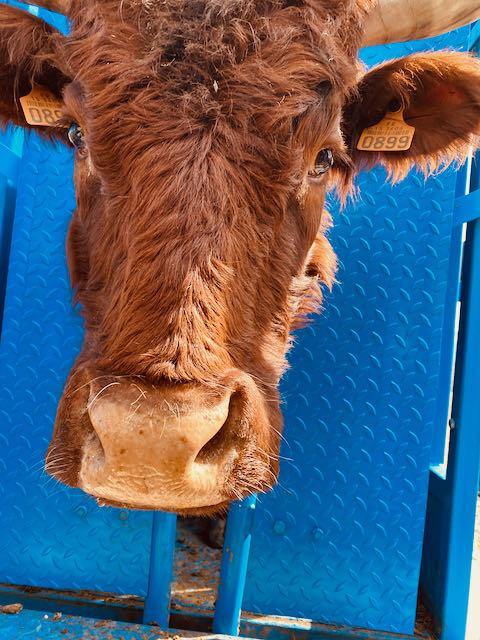muzzles: (29, 350, 302, 528)
